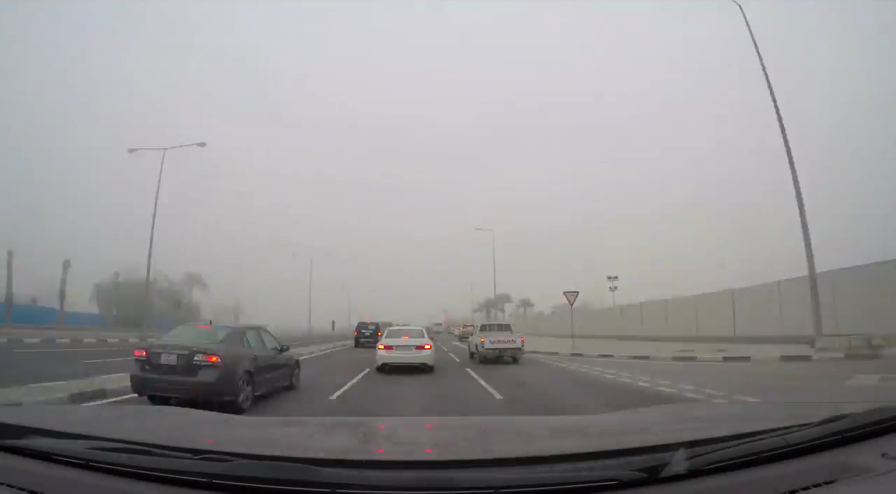car: (126, 322, 300, 417), (373, 325, 435, 374), (470, 322, 530, 365), (352, 320, 382, 349), (457, 322, 480, 341), (431, 320, 446, 333)
